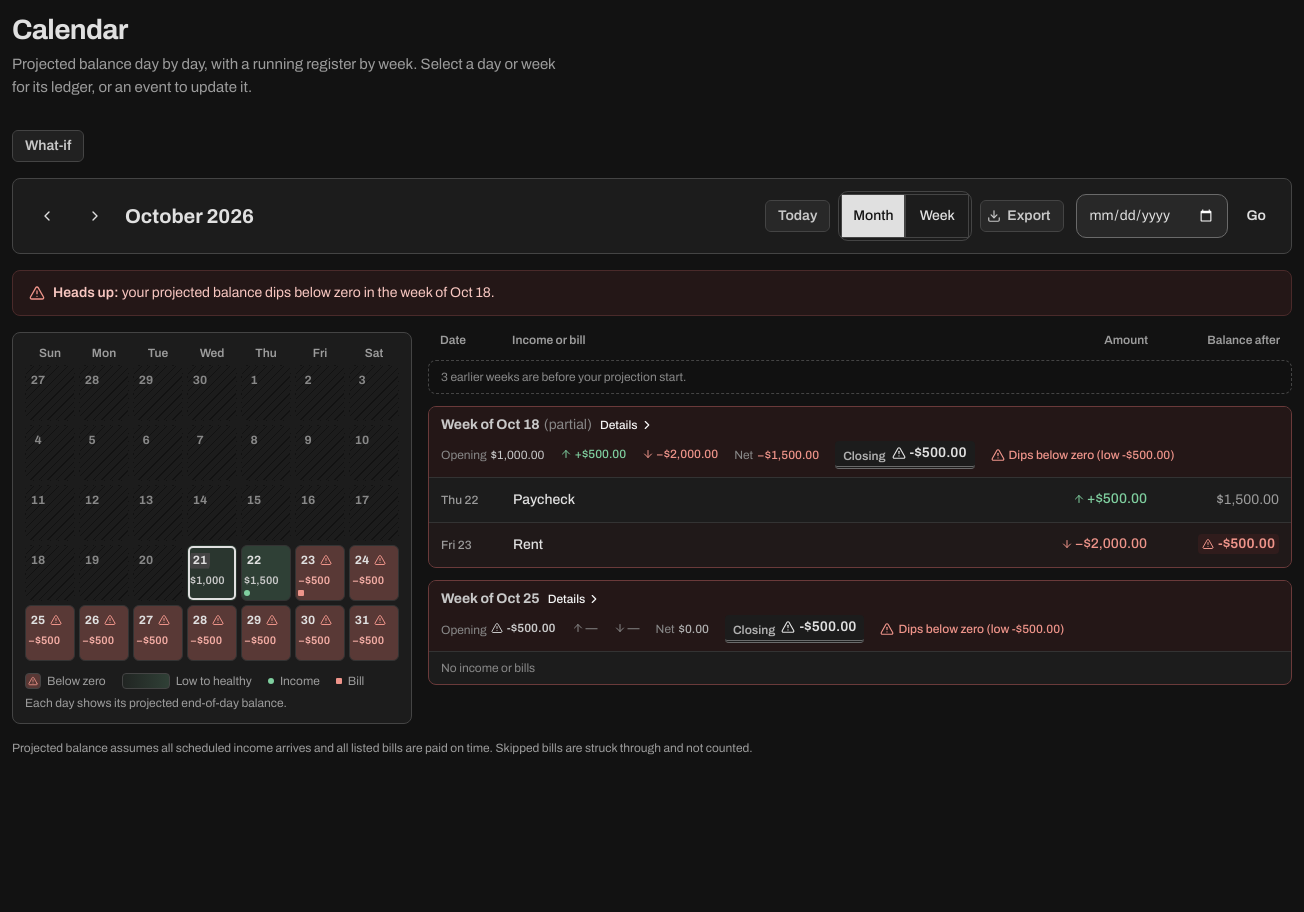
it: calendar heatmap and register › week view shows only the selected week
The image size is (1304, 912).
Click the radio button with test id "calendar-view-week". click: click(937, 216)
box: [905, 194, 969, 238]
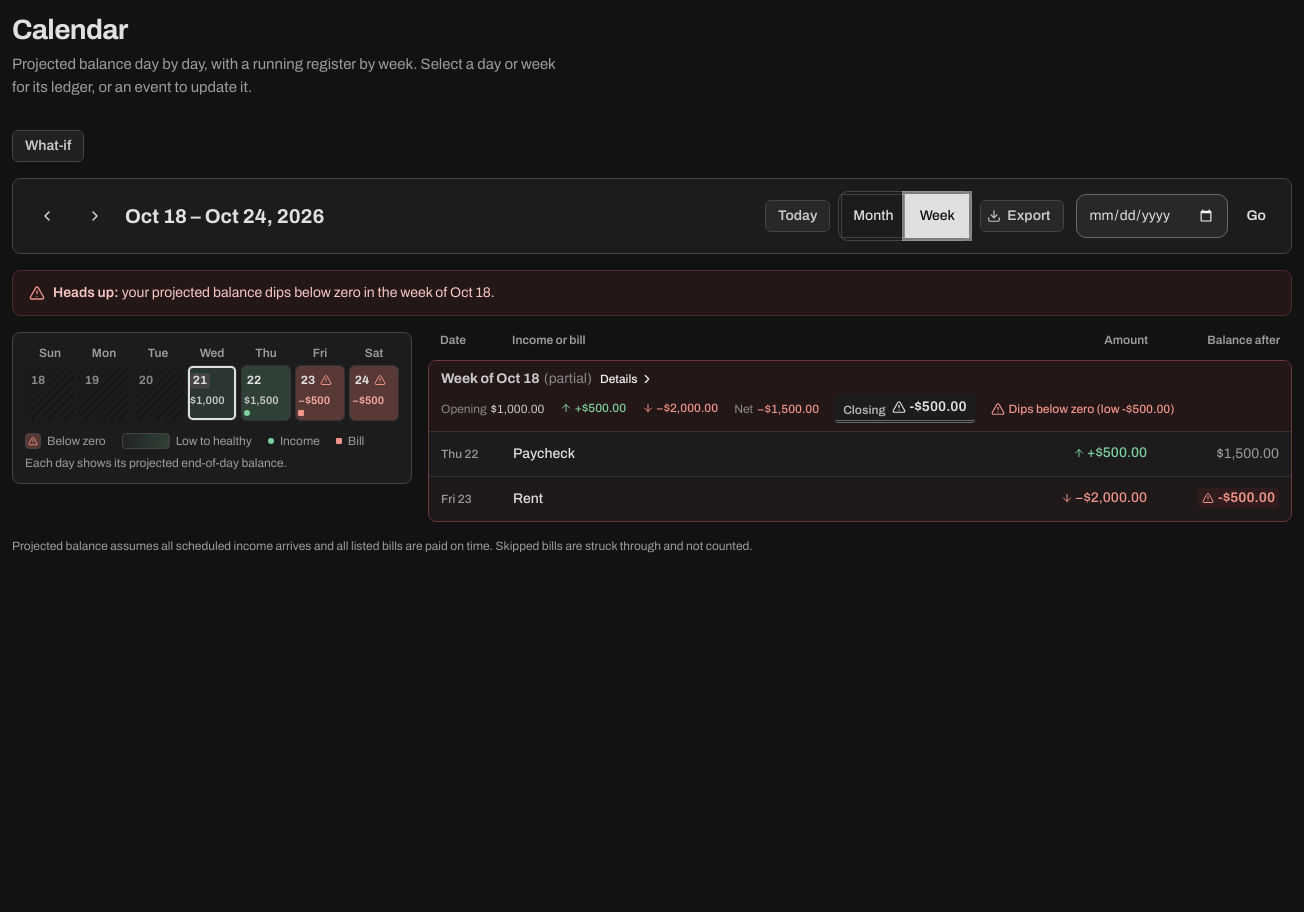
Now the element with test id "calendar-week" is shown, box [12, 332, 1292, 554]
